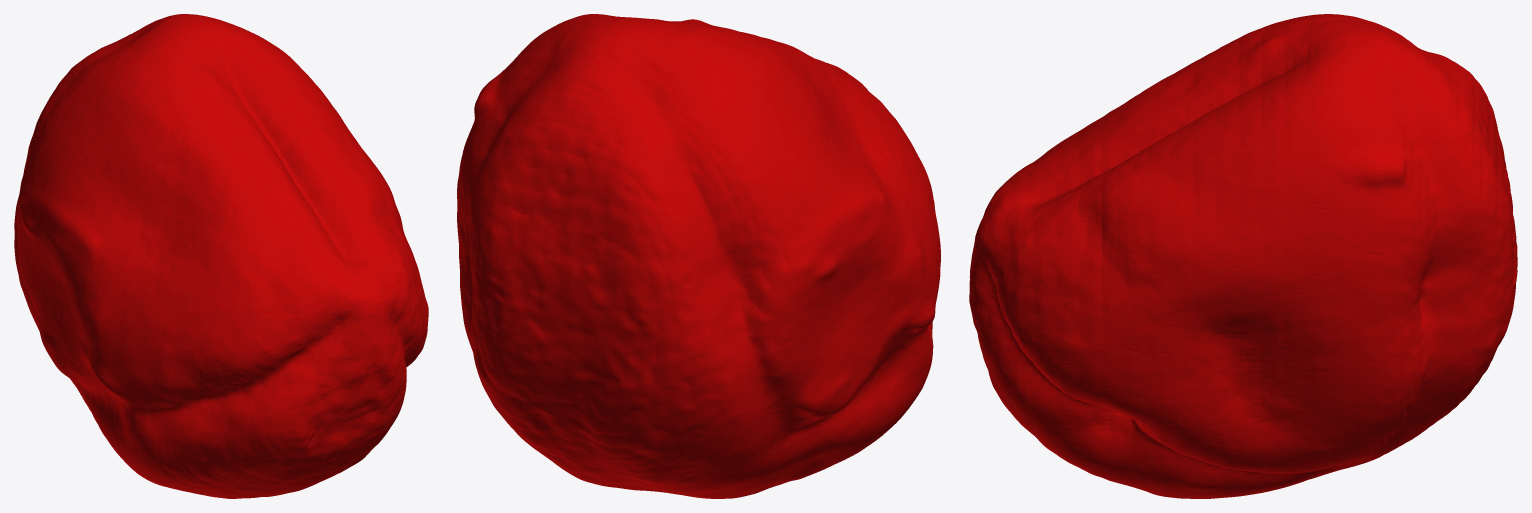
Rendered from 3DPX-017798-0.glb.
3 views of the same model, side by side, from view 1: azimuth 30°, elevation 25°; view 2: azimuth 150°, elevation 25°; view 3: azimuth 270°, elevation 25° (orthographic). The views are drawn at different scales.
Bounding box in the file's own units: 21.39 × 27.61 × 29.88.
